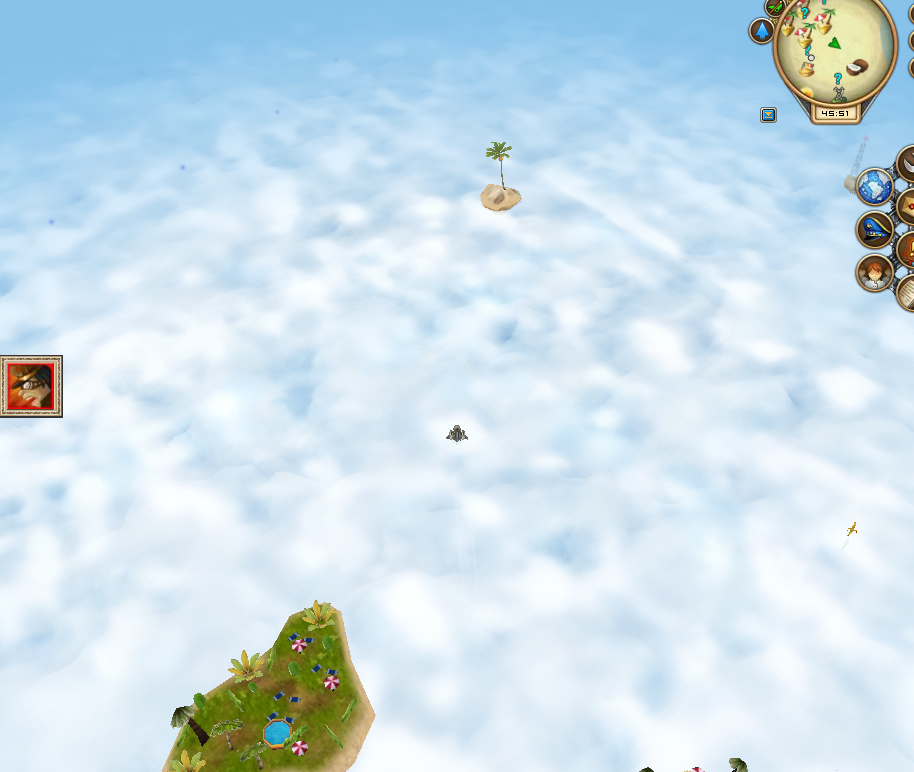palm: (476, 138, 523, 213)
